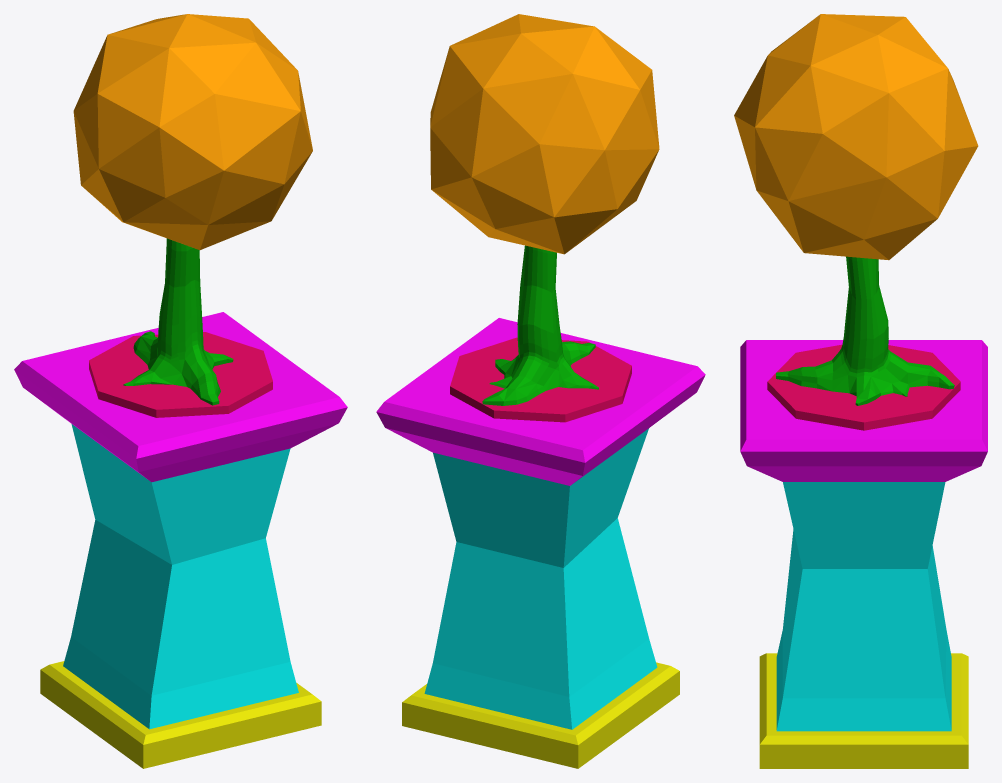
Rendered from STATUE_TREE_BIG.fbx.
The picture shows the model from 3 angles, left to right: view 1: azimuth 30°, elevation 25°; view 2: azimuth 150°, elevation 25°; view 3: azimuth 270°, elevation 25°; orthographic projection. The views are drawn at different scales.
Visible parts, largest first — view 1: DECO_TREE_BIG; view 2: DECO_TREE_BIG; view 3: DECO_TREE_BIG.
Part boxes in pixels (left/top/right/bottom): DECO_TREE_BIG: left=14, top=14, right=347, bottom=768; DECO_TREE_BIG: left=376, top=14, right=705, bottom=768; DECO_TREE_BIG: left=734, top=14, right=987, bottom=768.
Size of the model in its own units: 72.06 by 224 by 73.89.
